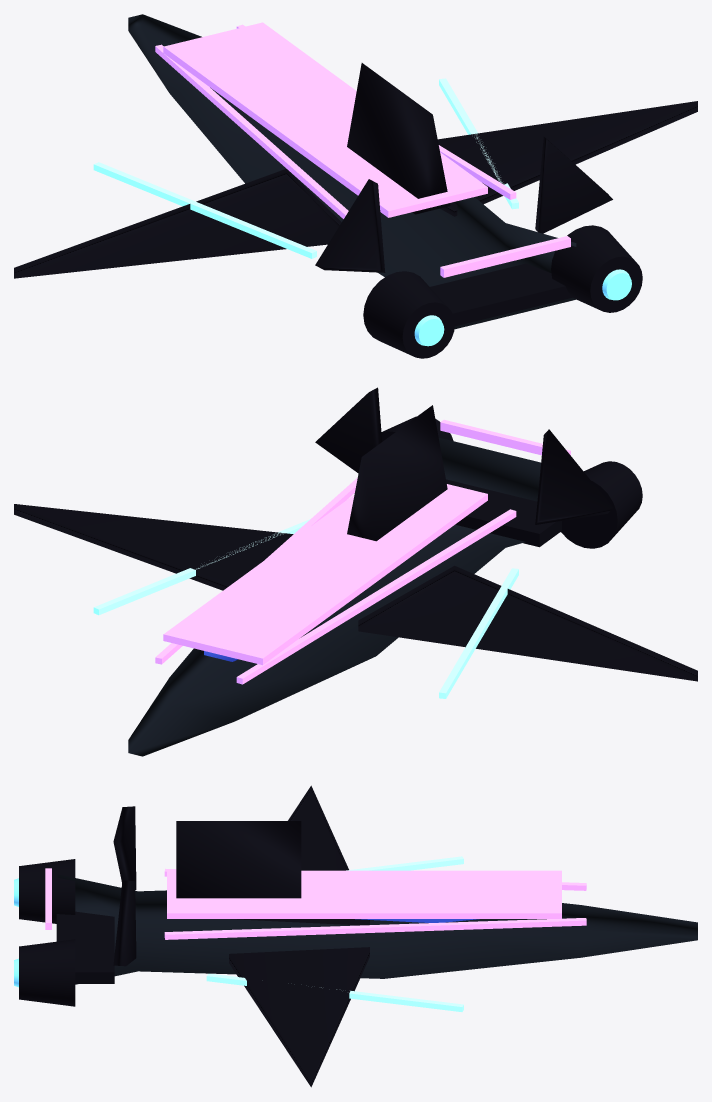
File: holder-void-interceptor.glb
The picture shows the model from 3 angles, top to bottom: view 1: azimuth 30°, elevation 25°; view 2: azimuth 150°, elevation 25°; view 3: azimuth 270°, elevation 25°; orthographic projection. The views are drawn at different scales.
Visible parts, largest first — view 1: center_void_seam, knife_hull, left_scimitar_wing, engine_cowling (×2), right_scimitar_wing, dorsal_blade, rear_dark_armor, right_rear_rudder, left_rear_rudder, cyan_wing_seam (×2), purple_spine_seam (×2), rear_purple_signature (+1 smaller); view 2: knife_hull, center_void_seam, left_scimitar_wing, right_scimitar_wing, dorsal_blade, purple_spine_seam (×2), left_rear_rudder, engine_cowling, rear_dark_armor, right_rear_rudder, cyan_wing_seam (×2), rear_purple_signature; view 3: knife_hull, center_void_seam, right_scimitar_wing, dorsal_blade, engine_cowling (×2), purple_spine_seam, rear_dark_armor, left_scimitar_wing, cyan_wing_seam (×2), right_rear_rudder, left_rear_rudder.
Part boxes in pixels (x1,y1,x2,y2): center_void_seam: (163, 22, 487, 217); knife_hull: (128, 14, 576, 329); left_scimitar_wing: (14, 168, 341, 278); engine_cowling (×2): (363, 225, 642, 358); right_scimitar_wing: (437, 101, 697, 216); dorsal_blade: (347, 63, 450, 214); rear_dark_armor: (430, 263, 572, 326); right_rear_rudder: (535, 136, 612, 233); left_rear_rudder: (315, 179, 385, 272); cyan_wing_seam (×2): (93, 78, 518, 258); purple_spine_seam (×2): (155, 24, 516, 218); rear_purple_signature: (440, 236, 570, 277); knife_hull: (128, 437, 540, 756); center_void_seam: (163, 484, 487, 665); left_scimitar_wing: (358, 565, 697, 681); right_scimitar_wing: (14, 504, 293, 590); dorsal_blade: (347, 405, 447, 541); purple_spine_seam (×2): (155, 478, 516, 684); left_rear_rudder: (535, 429, 612, 524); engine_cowling: (561, 461, 642, 548); rear_dark_armor: (446, 479, 561, 547); right_rear_rudder: (315, 387, 382, 473); cyan_wing_seam (×2): (93, 519, 518, 698); rear_purple_signature: (440, 419, 570, 455); knife_hull: (57, 874, 697, 984); center_void_seam: (167, 870, 561, 918); right_scimitar_wing: (229, 947, 369, 1087); dorsal_blade: (176, 821, 301, 898); engine_cowling (×2): (19, 859, 75, 1006); purple_spine_seam: (164, 918, 586, 939); rear_dark_armor: (56, 911, 114, 983); left_scimitar_wing: (230, 785, 369, 925); cyan_wing_seam (×2): (206, 856, 463, 1011); right_rear_rudder: (113, 880, 136, 966); left_rear_rudder: (113, 806, 136, 889).
Size of the model in its own units: 8.6 by 1.95 by 8.49.
